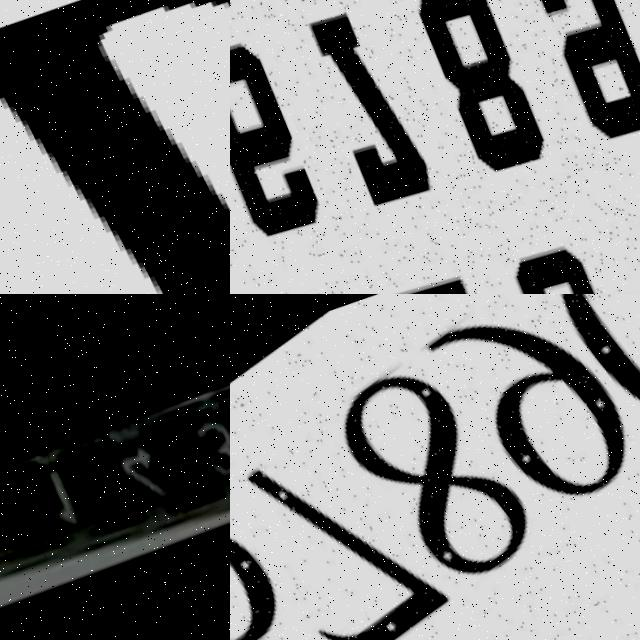0: (514, 294, 640, 466)
1: (25, 461, 82, 533)
3: (485, 218, 640, 294), (177, 407, 230, 486)
4: (105, 434, 170, 509)
6: (230, 22, 339, 251), (230, 481, 361, 640)
7: (230, 400, 465, 640), (278, 0, 447, 217)
8: (298, 322, 561, 618), (391, 0, 563, 188)
9: (402, 294, 640, 538), (504, 0, 640, 151)
L: (0, 0, 230, 294)
